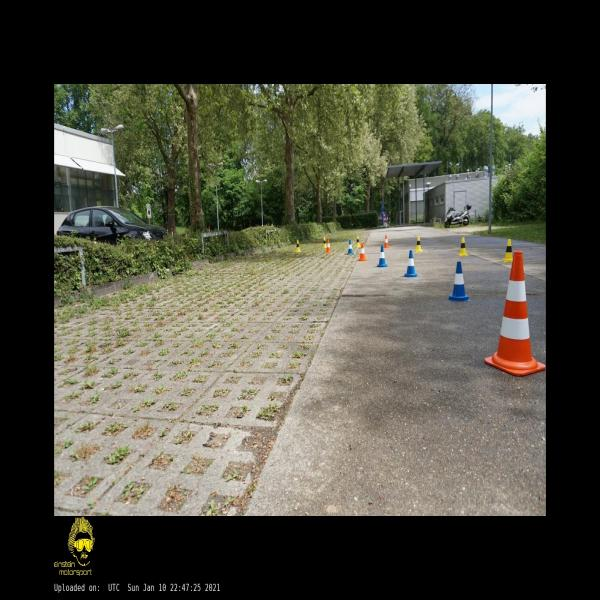blue_cone: (448, 260, 471, 302), (403, 250, 419, 277), (376, 245, 388, 267), (347, 240, 354, 254)
large_orange_cone: (485, 250, 545, 375)
orange_cone: (357, 242, 368, 261), (383, 235, 390, 248), (326, 238, 332, 252)
yellow_cone: (503, 239, 513, 262), (458, 237, 469, 256), (414, 234, 423, 252), (355, 235, 361, 247), (294, 240, 300, 252), (322, 236, 327, 248)
